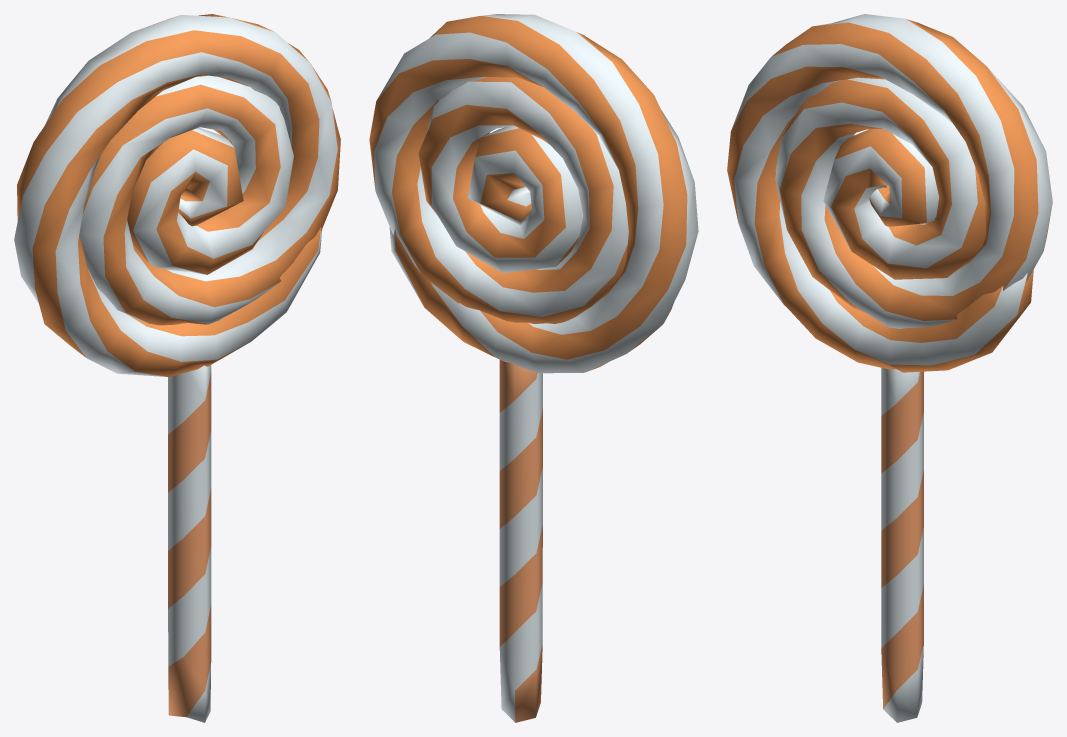
Rendered from candy_assets7.fbx.
3 views of the same model, side by side, from view 1: azimuth 30°, elevation 25°; view 2: azimuth 150°, elevation 25°; view 3: azimuth 330°, elevation 25° (orthographic).
Visible parts, largest first — view 1: candy_assets7; view 2: candy_assets7; view 3: candy_assets7.
Boxes of the visible parts, bbox=[...] form: candy_assets7: bbox=[14, 14, 340, 722]; candy_assets7: bbox=[369, 14, 698, 722]; candy_assets7: bbox=[727, 14, 1052, 722].
Bounding box in the file's own units: 564 × 1197 × 131.
Materials: 1 (1 with a texture image).
